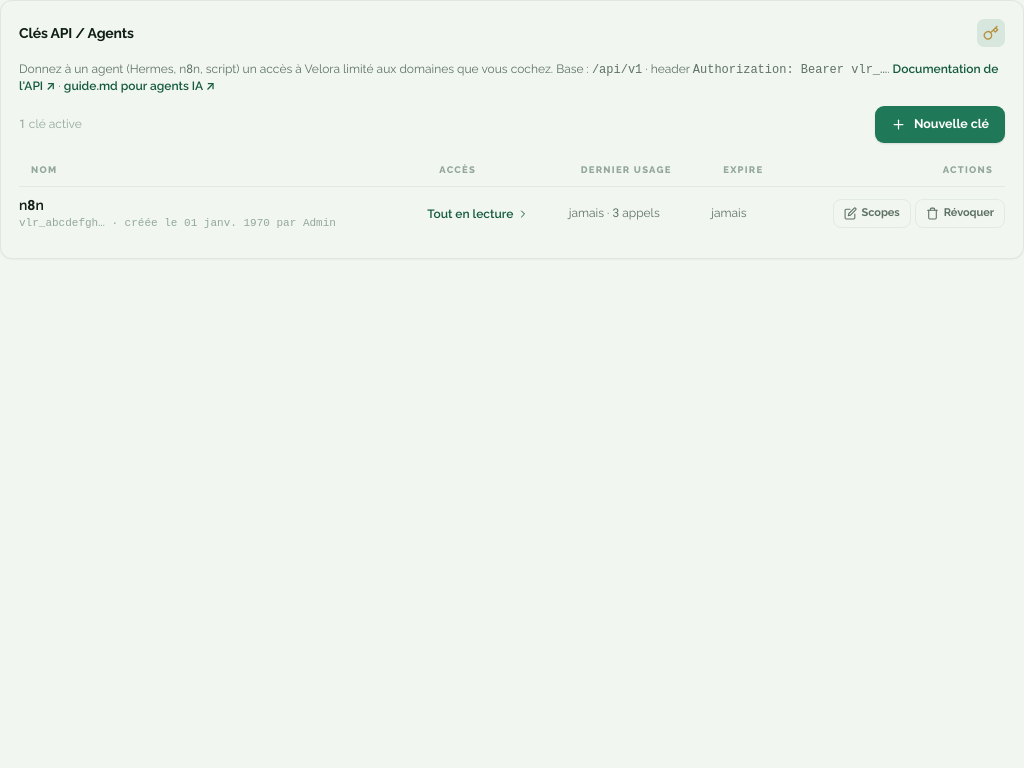
<ApiTokensSection /> › liste les clés et crée une clé scopée depuis la grille ; le secret est affiché une fois
The image size is (1024, 768).
Expected: the number of rows with test id "api-token-row" is 1, [19, 187, 1005, 240]
Expected: the button "Tout en lecture" is shown, [427, 206, 529, 222]
Click the button "Nouvelle clé" at (940, 124), box [875, 106, 1005, 143]
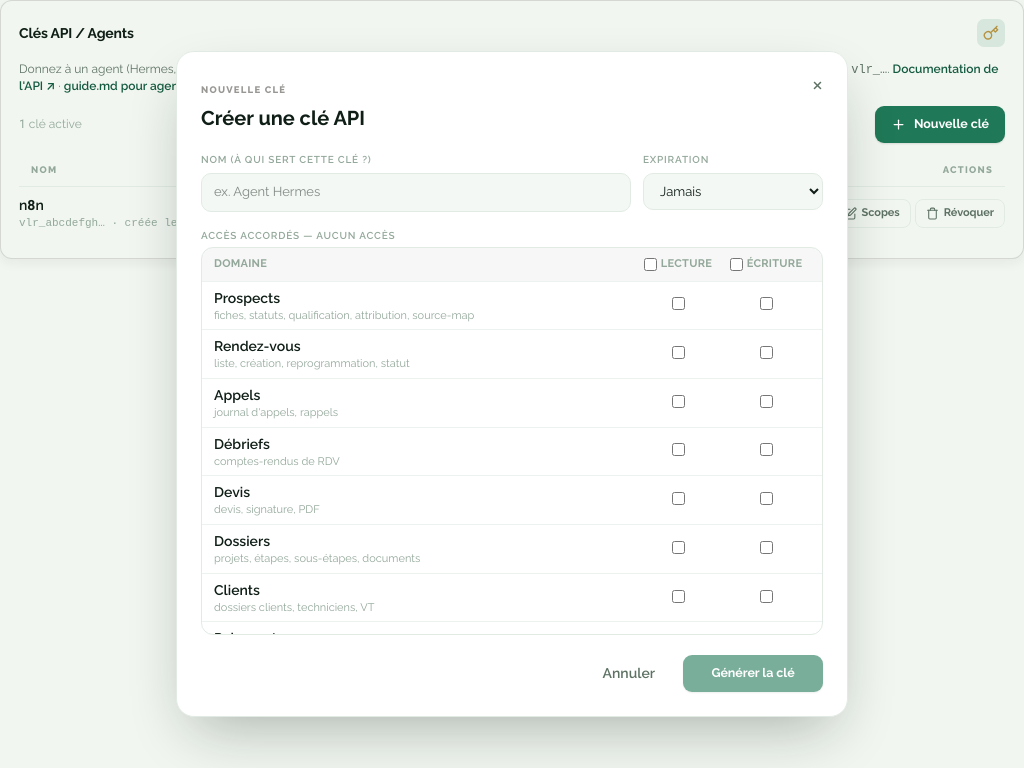
Type "Agent Hermes" into the field with placeholder "ex. Agent Hermes" at (416, 193), box [201, 174, 631, 212]
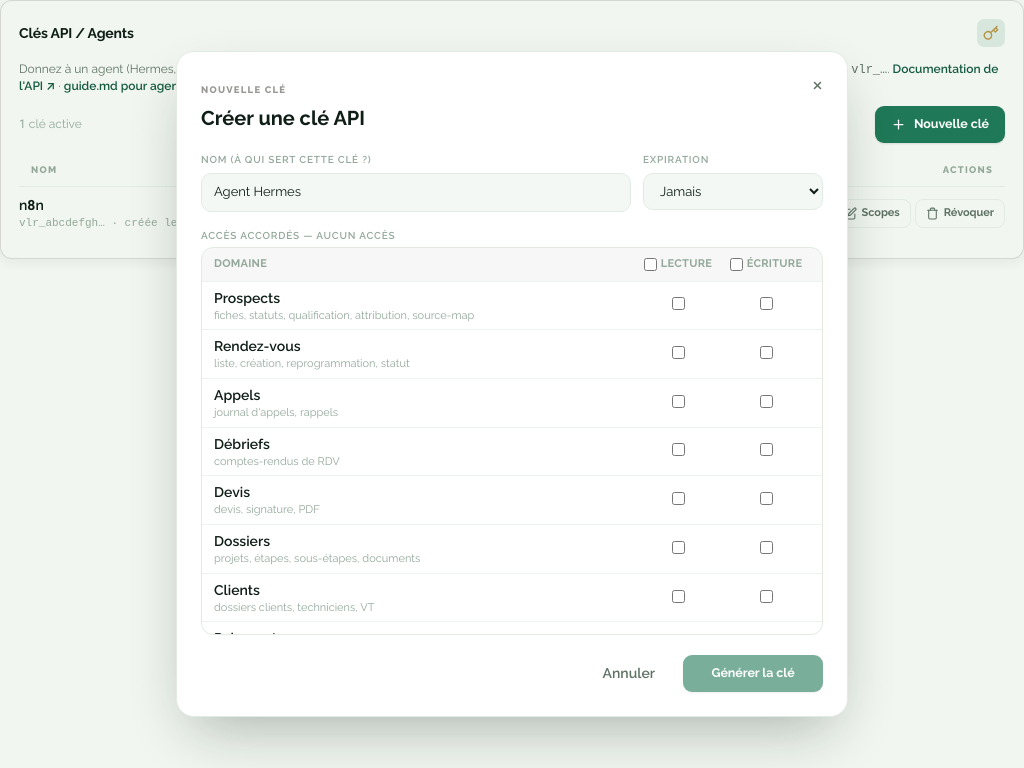
Click the checkbox named "Prospects lecture" at (678, 304), box [672, 297, 684, 310]
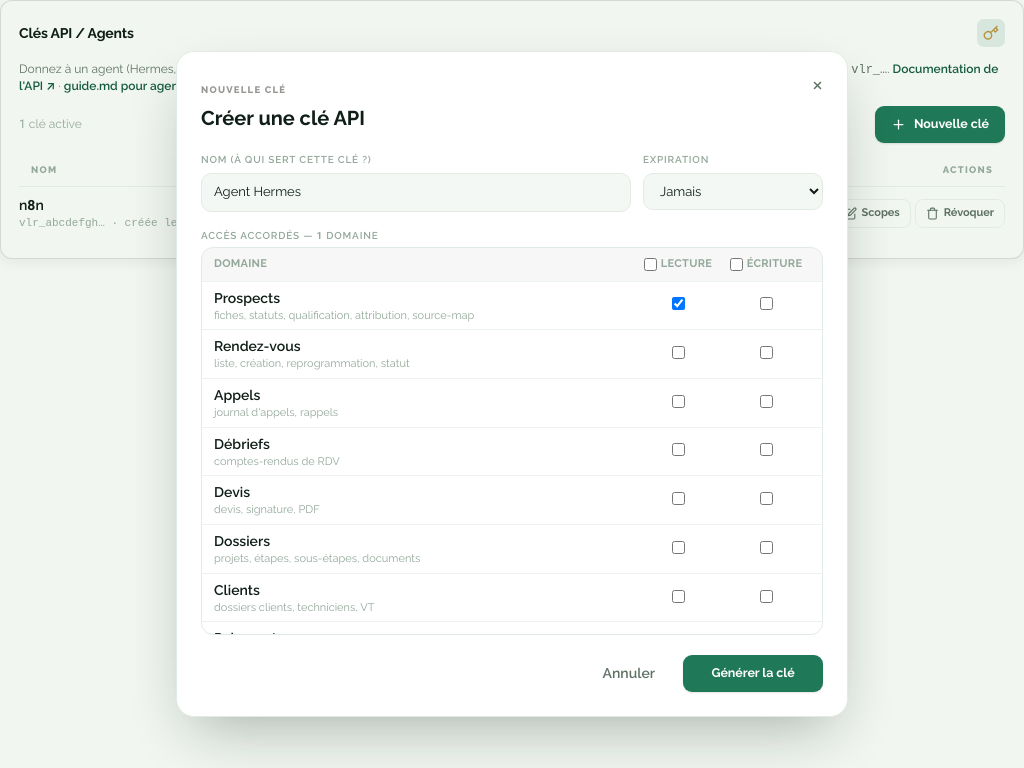
Click the checkbox named "Rendez-vous écriture" at (766, 353), box [760, 346, 772, 359]
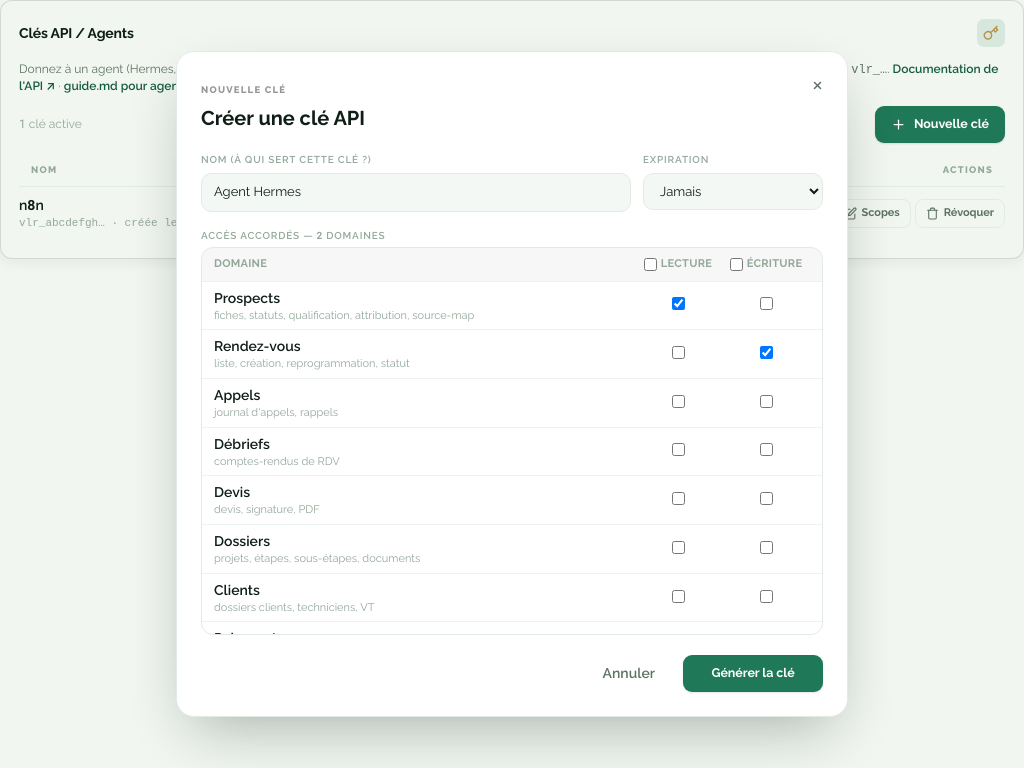
Click the button "Générer la clé" at (753, 673), box [683, 655, 823, 692]
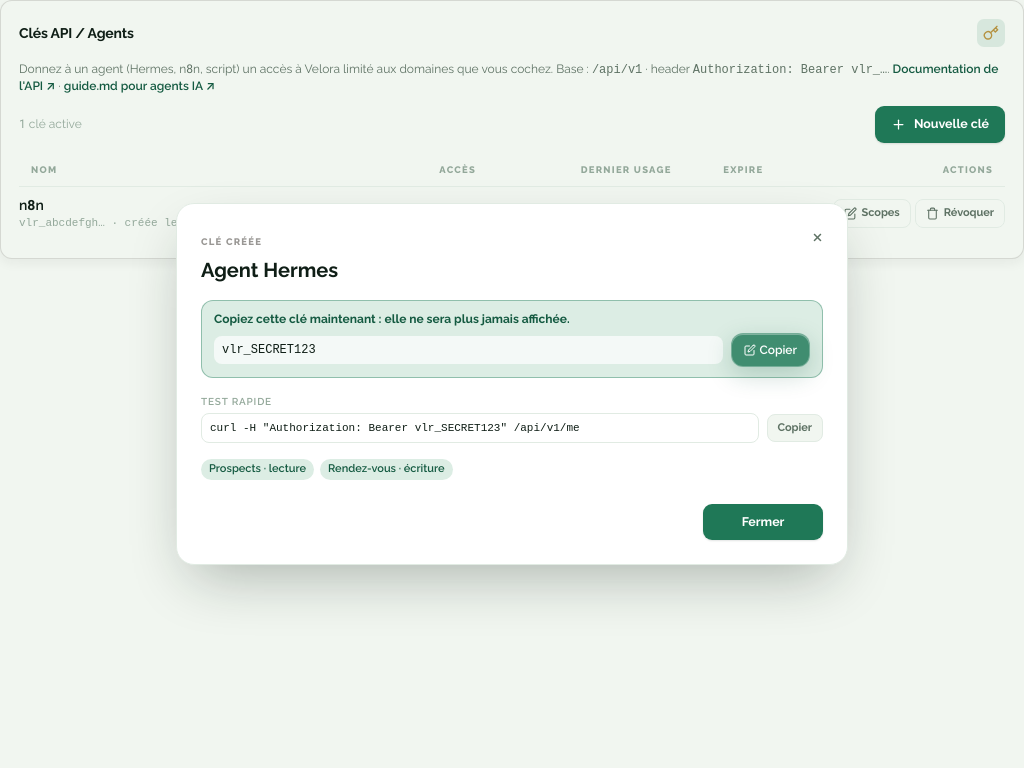
Expected: the text with test id "api-token-secret" reads "vlr_SECRET123", [222, 343, 316, 357]
